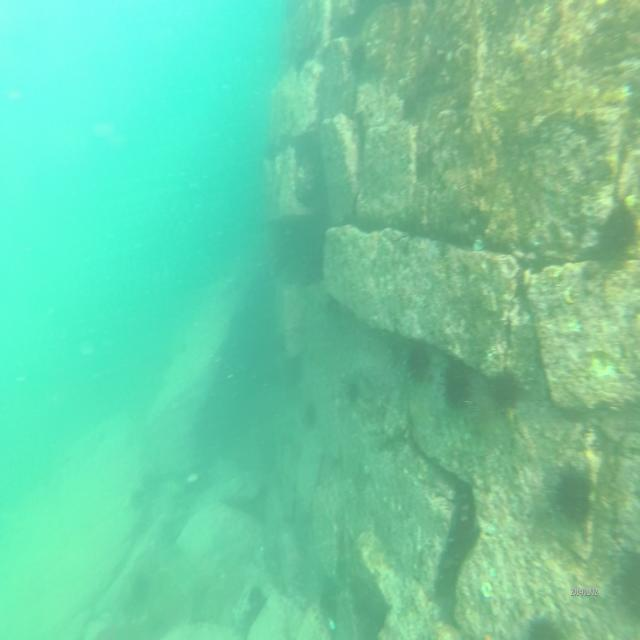echinus: (602, 202, 636, 266), (558, 465, 590, 518), (444, 360, 474, 410), (490, 369, 515, 410), (408, 346, 429, 385), (248, 585, 266, 616), (304, 399, 318, 432), (348, 382, 361, 406)
